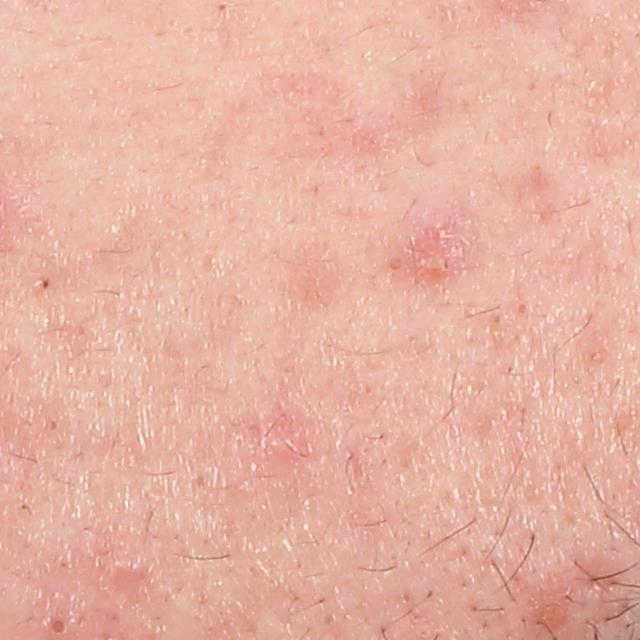comedo: (36, 276, 55, 291), (385, 256, 401, 273), (514, 300, 529, 316), (48, 419, 60, 433)
papule: (408, 218, 464, 270), (529, 592, 582, 633)
